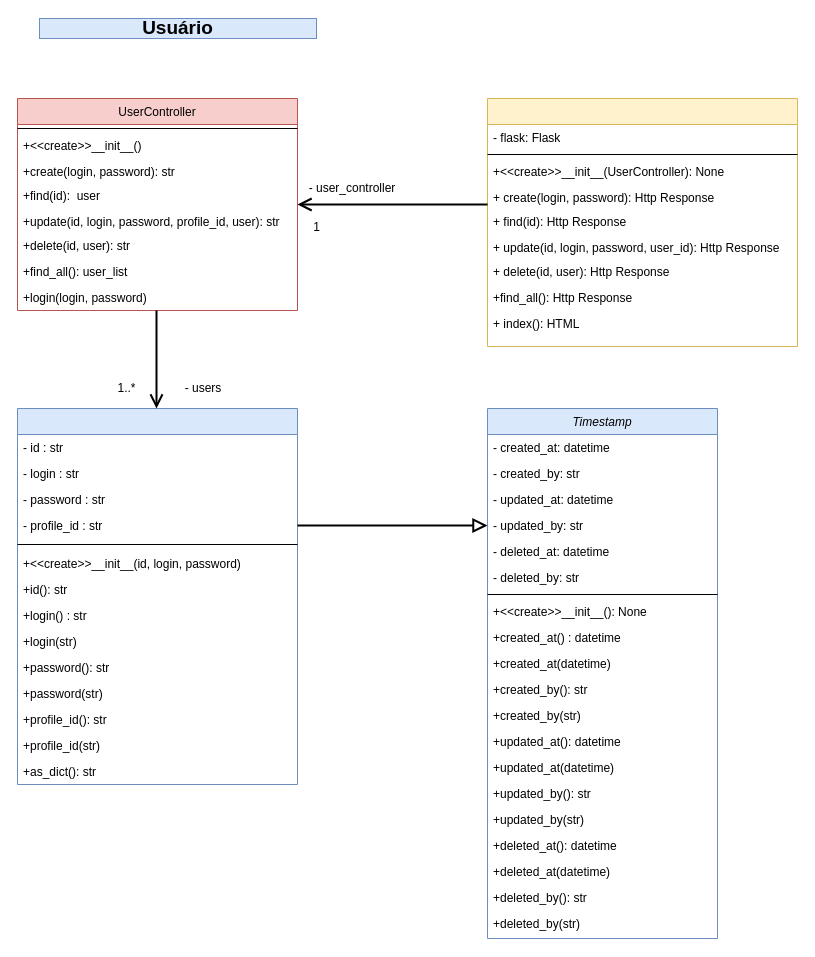
This 815x957 diagram has some shape labels left out. The shapes that lost their labels are listed below. From the top down, each one's box as (x1, y1, x2, y2) in pixels, then its label:
(486, 98, 798, 346): UserView
(16, 408, 298, 784): UserModel
